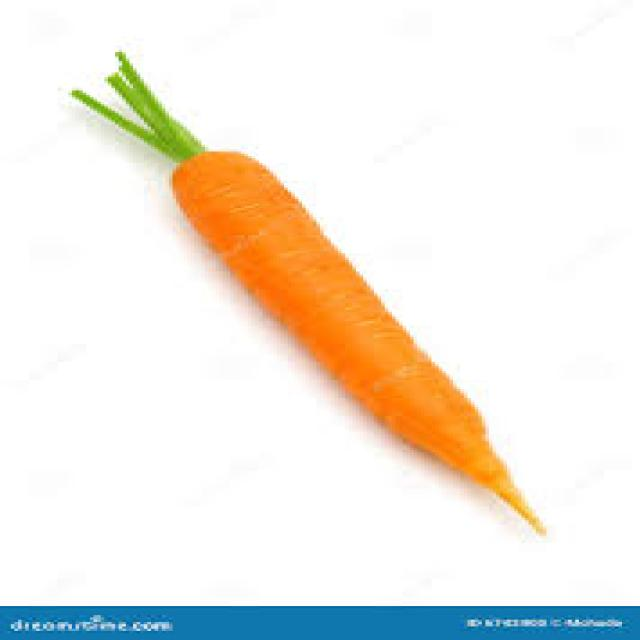carrot: (76, 139, 546, 536)
